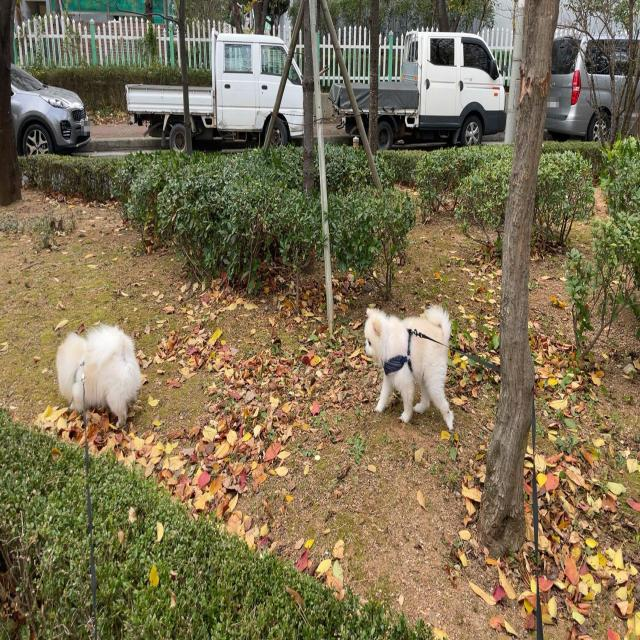Dog: (364, 305, 454, 431), (57, 325, 141, 428)
